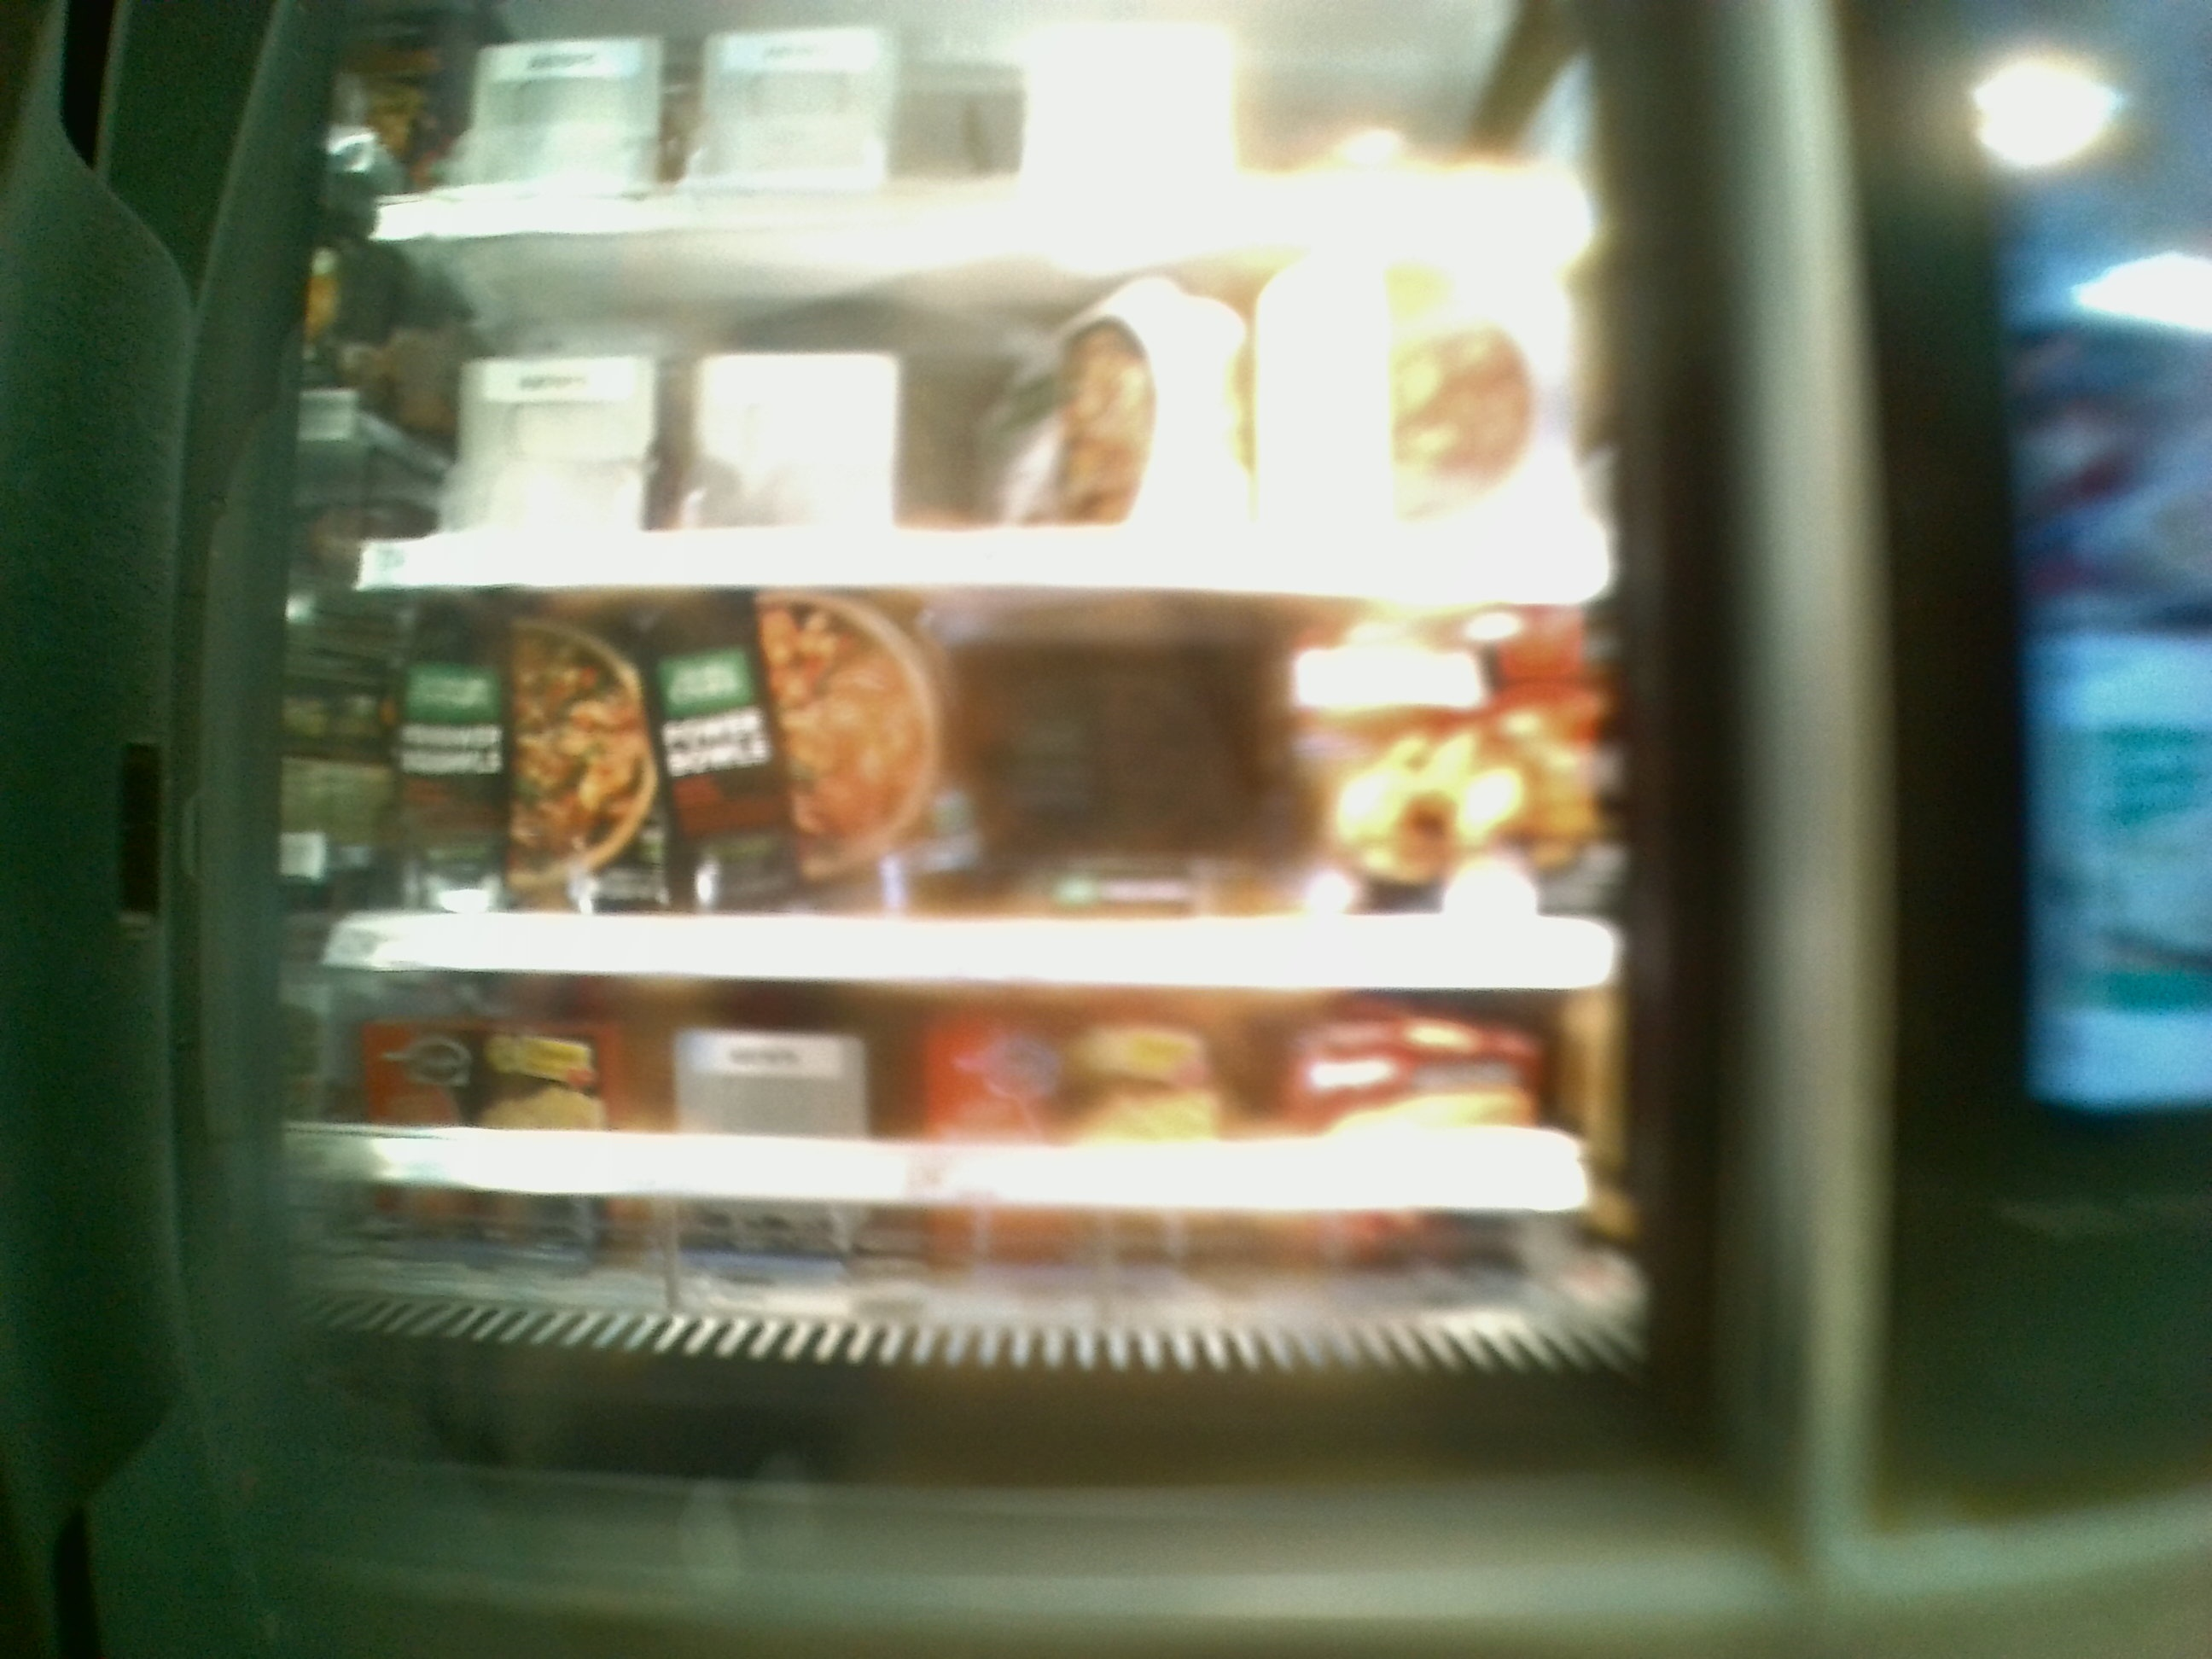shelf: (291, 964, 1635, 1405), (336, 596, 1623, 979)
